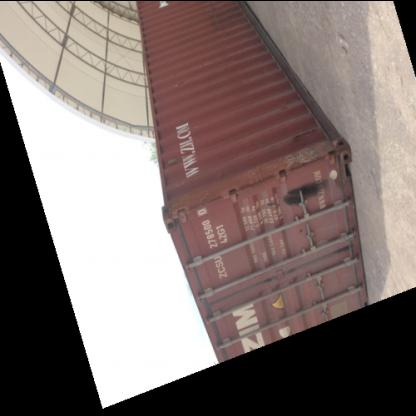Damage: (278, 180, 328, 207), (198, 2, 242, 31), (271, 89, 313, 118), (282, 144, 320, 168), (288, 125, 320, 141), (164, 150, 184, 170), (166, 73, 186, 89), (292, 224, 308, 232)
